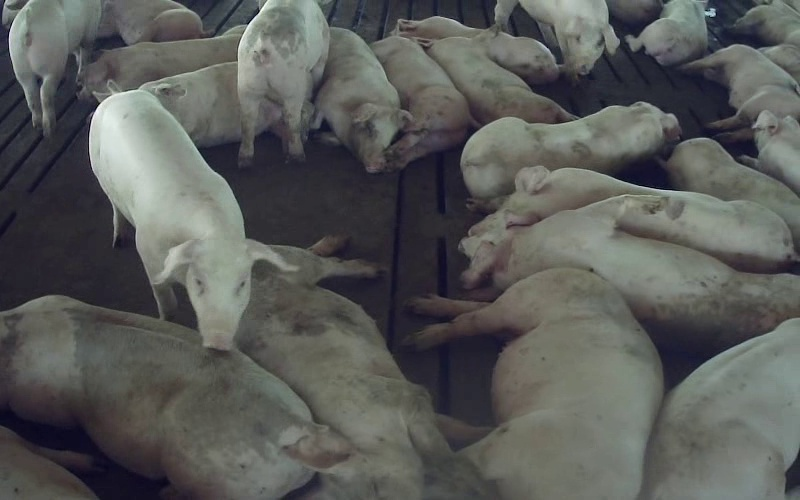pig: (408, 268, 662, 499), (89, 80, 291, 349), (462, 197, 799, 354), (469, 168, 797, 271), (640, 318, 799, 499), (460, 102, 680, 199), (663, 138, 799, 252), (312, 27, 410, 172), (370, 36, 473, 170), (425, 37, 575, 124), (78, 26, 245, 100), (680, 44, 799, 142), (392, 16, 560, 83), (495, 0, 619, 82), (140, 62, 240, 147), (97, 0, 203, 44), (747, 111, 799, 194)
